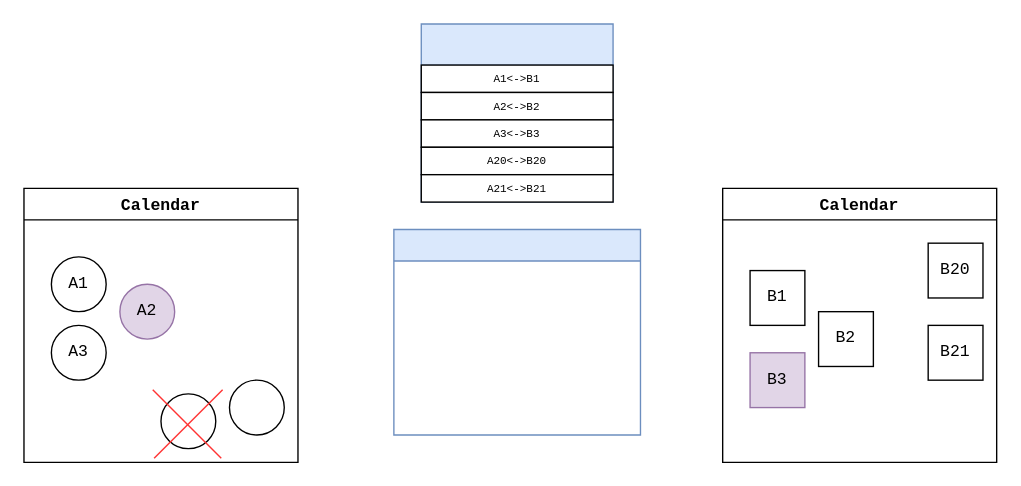
Image size: 1021x486. Some labels were removed from this diagram. Here are the shapes that lost their labels. From the top down, the box of each, then its label:
(420, 23, 613, 202): A_to_B (bidict)
(393, 228, 640, 435): Synchronizer
(160, 393, 216, 449): A21
(228, 379, 284, 435): A20
